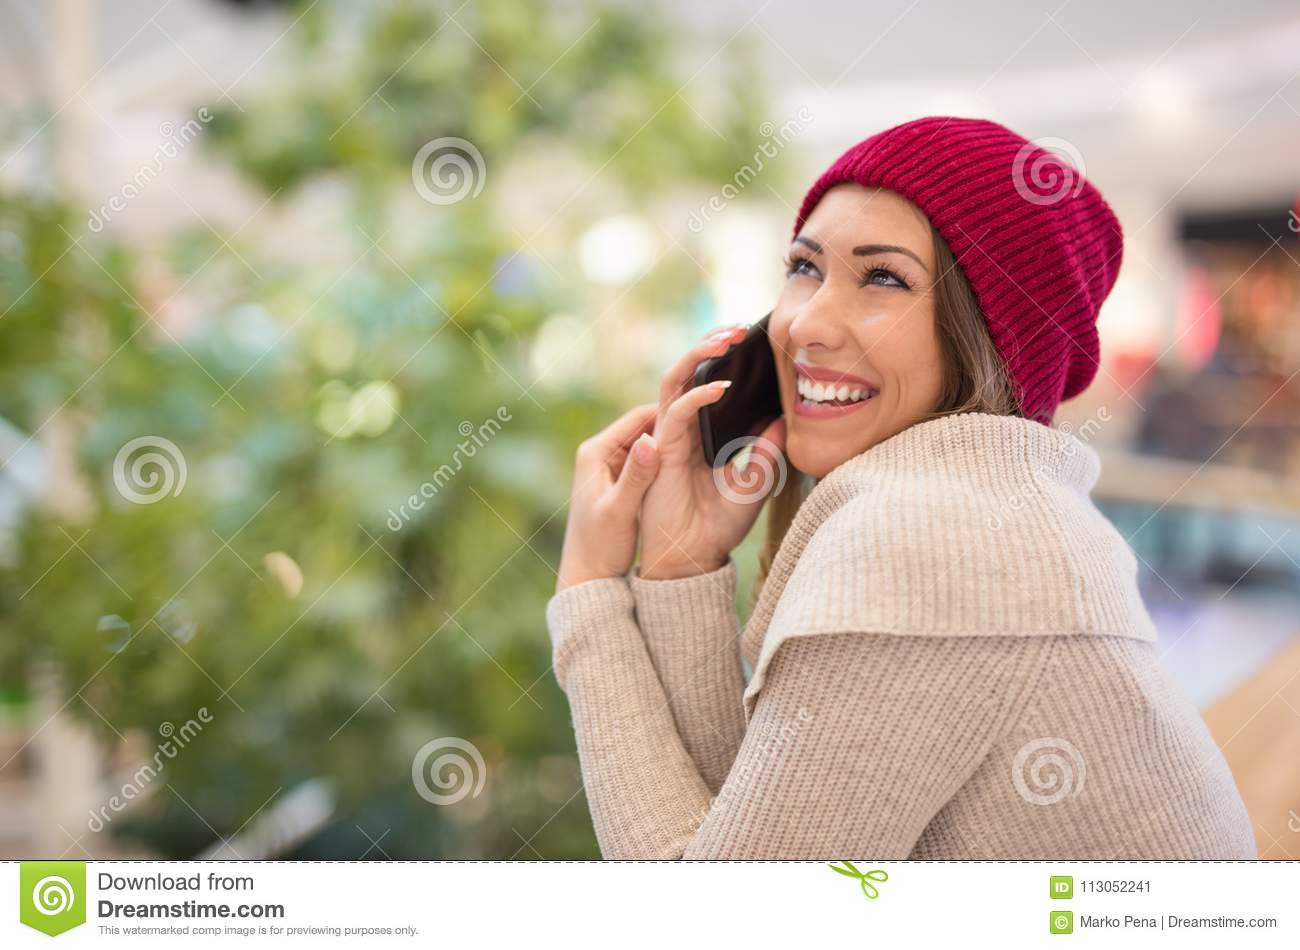phone: (697, 309, 790, 469)
talk: (644, 218, 936, 563)
